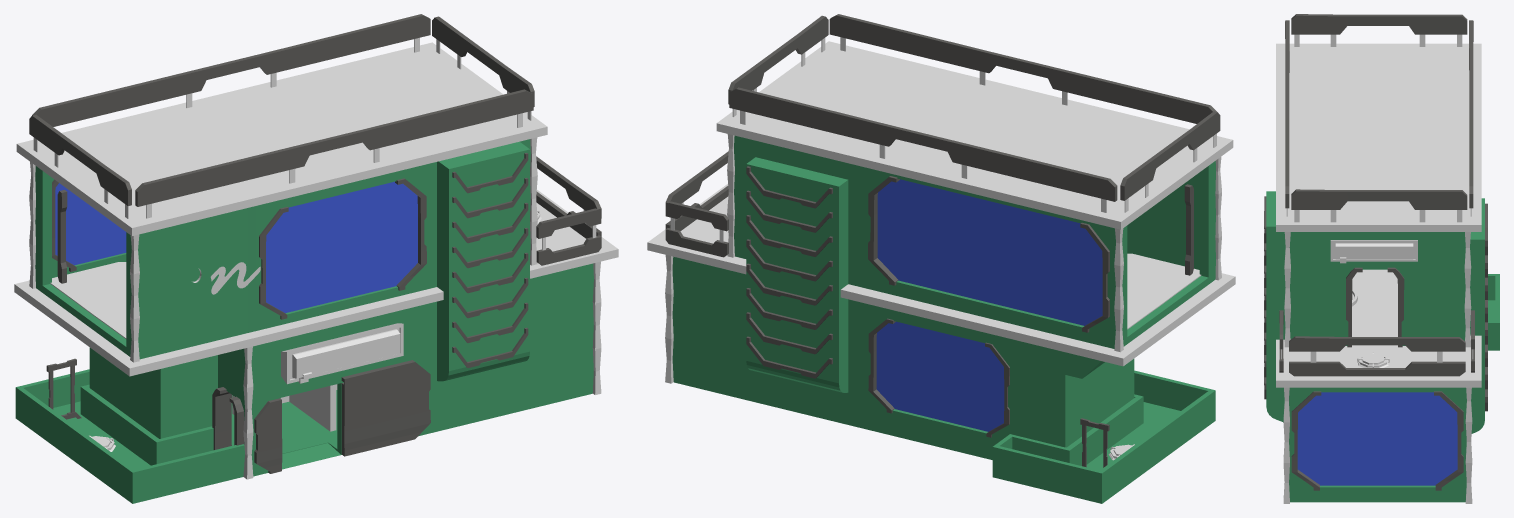
Rendered from edificioProps.glb.
3 renders of one model, left to right at view 1: azimuth 30°, elevation 25°; view 2: azimuth 150°, elevation 25°; view 3: azimuth 270°, elevation 25°, orthographic. The views are drawn at different scales.
Visible parts, largest first — view 1: Techo 2, Piso1, Piso 2, Panel1, Cube.079, Pasillo, Base piso 2, Cube.014, Cube.058, Cube.105, Cube.009, Cube.107 (+19 smaller); view 2: Techo 2, Piso1, Cube.080, Piso 2, Panel 2, Pasillo, Cube.084, Base piso 2, Cube.058, Cube.014, Rejillas1, Cylinder (+14 smaller); view 3: Techo 2, Cube.081, Piso 2, Base piso 2, Piso1, Panel1, Cube.020, Cube.063, Panel 2, Cube.040, Cube.039, Cube.097 (+14 smaller).
Part boxes in pixels (box(x1,y1,x2,y2)): Techo 2: box(16, 42, 547, 235); Piso1: box(89, 263, 593, 476); Piso 2: box(35, 139, 530, 359); Panel1: box(437, 141, 529, 381); Cube.079: box(266, 181, 417, 313); Pasillo: box(15, 369, 244, 503); Base piso 2: box(14, 189, 618, 376); Cube.014: box(135, 89, 533, 206); Cube.058: box(32, 14, 430, 126); Cube.105: box(341, 360, 430, 456); Cube.009: box(452, 153, 528, 367); Cube.107: box(281, 323, 403, 384); Techo 2: box(716, 41, 1233, 229); Piso1: box(672, 256, 1134, 459); Cube.080: box(877, 179, 1102, 325); Piso 2: box(734, 135, 1215, 348); Panel 2: box(746, 157, 848, 392); Pasillo: box(992, 370, 1215, 503); Cube.084: box(876, 321, 1004, 431); Base piso 2: box(647, 184, 1235, 366); Cube.058: box(729, 87, 1117, 201); Cube.014: box(829, 14, 1216, 123); Rejillas1: box(746, 166, 832, 378); Cylinder: box(1127, 253, 1201, 329); Techo 2: box(1276, 43, 1481, 231); Cube.081: box(1297, 392, 1457, 485); Piso 2: box(1289, 232, 1465, 345); Base piso 2: box(1276, 269, 1481, 387); Piso1: box(1289, 387, 1466, 502); Panel1: box(1266, 191, 1285, 422); Cube.020: box(1291, 14, 1467, 34); Cube.063: box(1291, 189, 1467, 209); Panel 2: box(1470, 198, 1484, 433); Cube.040: box(1289, 361, 1465, 376); Cube.039: box(1289, 336, 1465, 351); Cube.097: box(1330, 240, 1417, 261).
Size of what is drawn, in the model's own units: 33.18 by 20.91 by 15.53.
